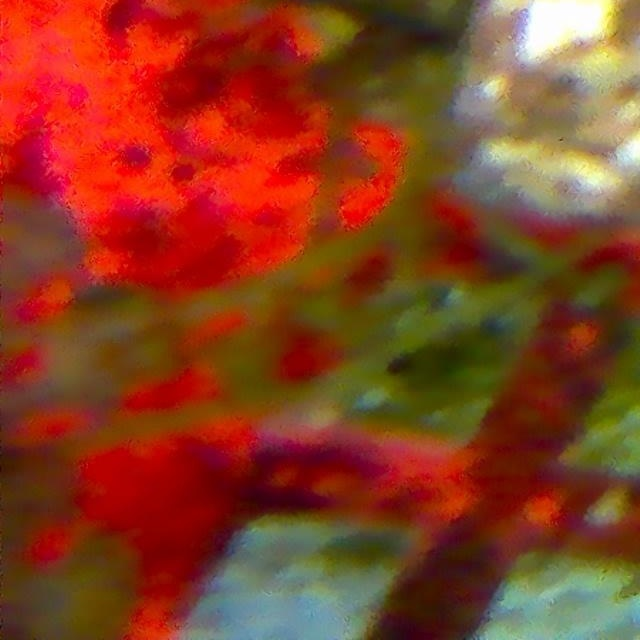SeaGrape: (209, 323, 285, 403), (123, 330, 183, 389), (298, 287, 349, 339)
